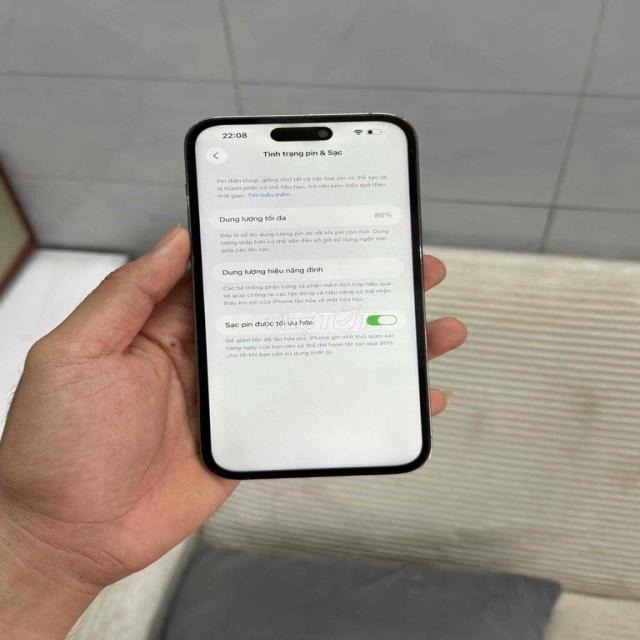gen_14: (174, 109, 455, 492)
